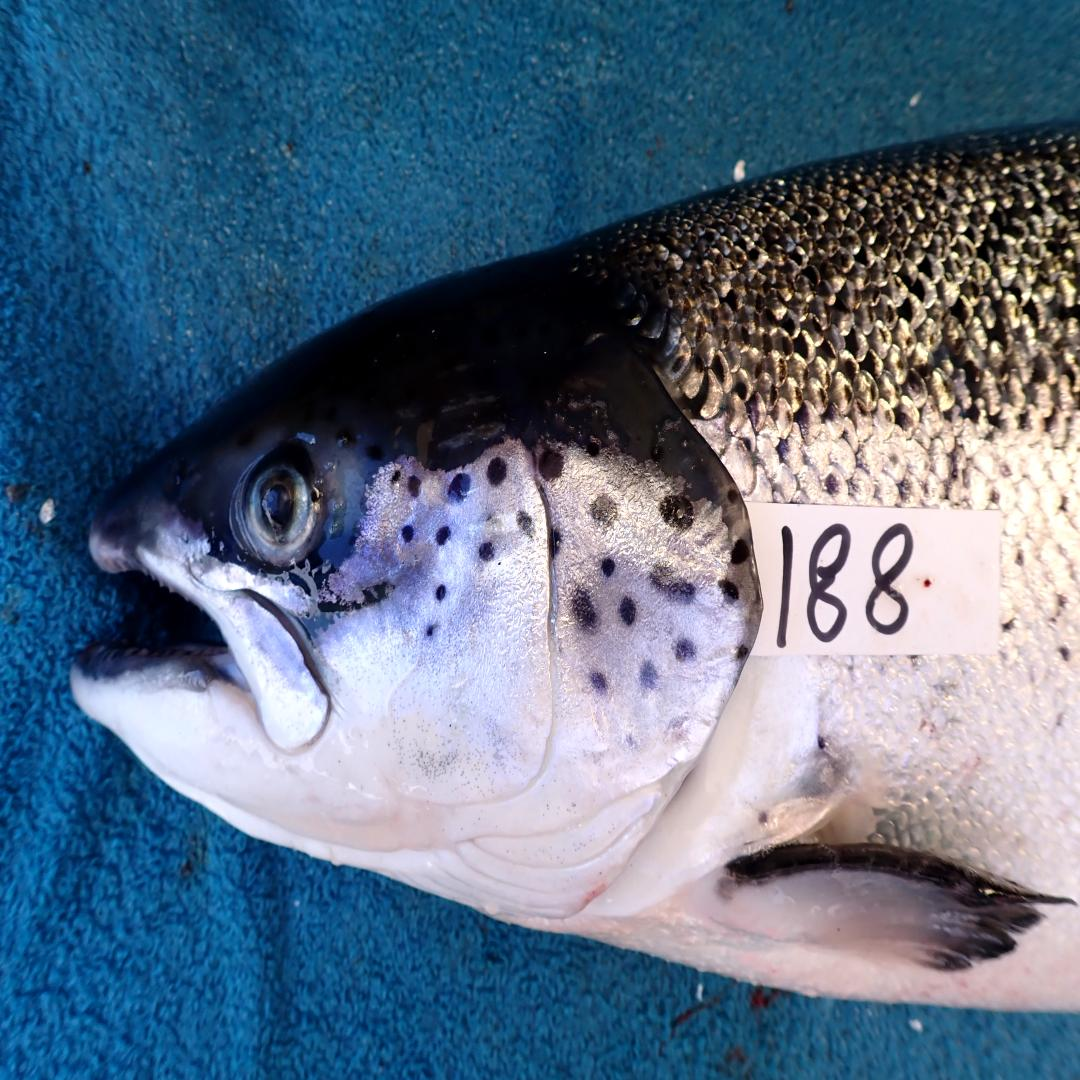roi: (328, 431, 763, 923)
